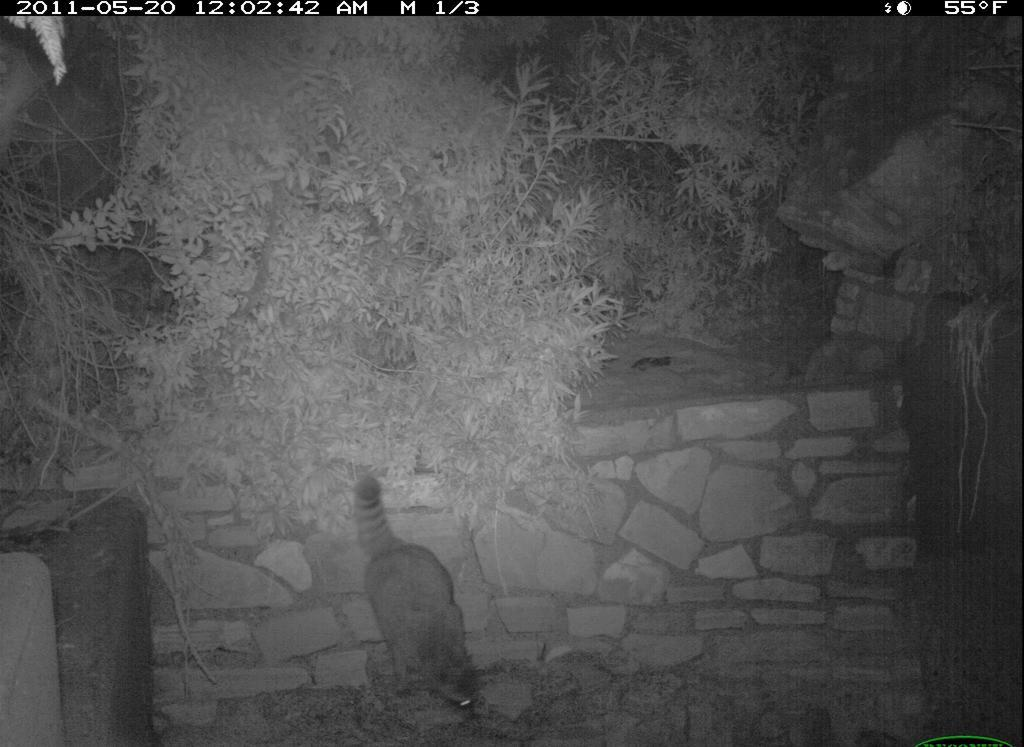raccoon: (344, 475, 496, 719)
